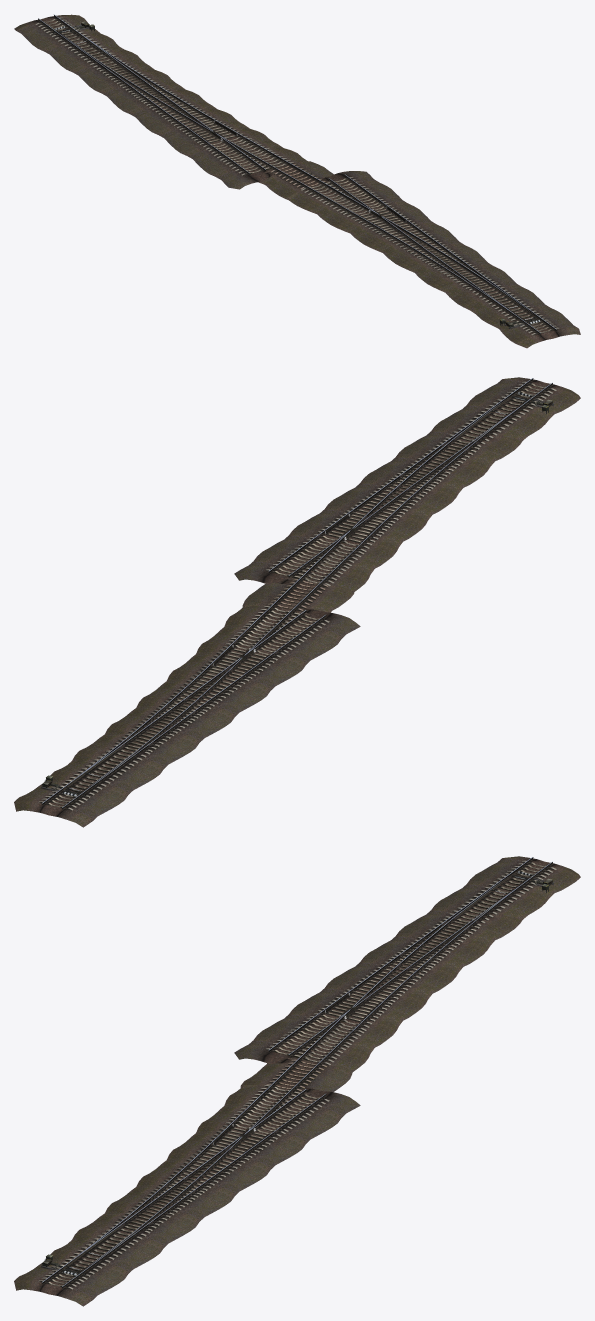
File: 2track2-2_5.5_TSM.gltf
The picture shows the model from 3 angles, top to bottom: view 1: azimuth 30°, elevation 25°; view 2: azimuth 150°, elevation 25°; view 3: azimuth 330°, elevation 25°; orthographic projection. The views are drawn at different scales.
Bounding box in the file's own units: 12.31 × 0.9462 × 79.83.
1 material, 1 textured.
